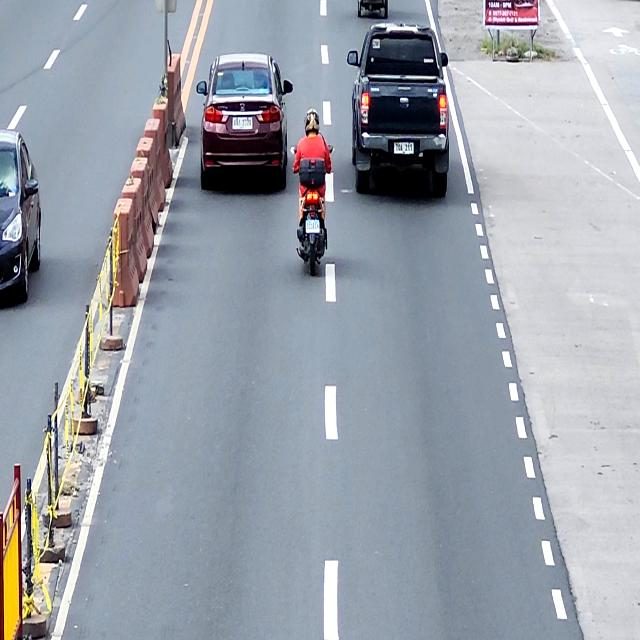Car: (347, 20, 450, 196), (196, 52, 293, 190), (0, 127, 41, 302)
License-Plate: (394, 134, 418, 158), (231, 114, 253, 131), (304, 218, 322, 236)
Motorcycle: (290, 144, 334, 276)
